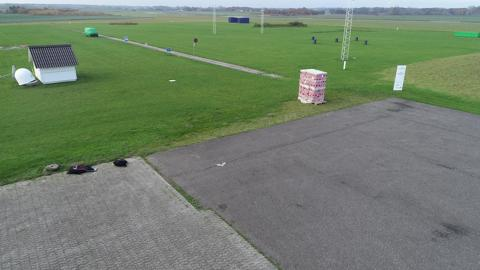RockwoolPallet: (298, 68, 329, 106)
